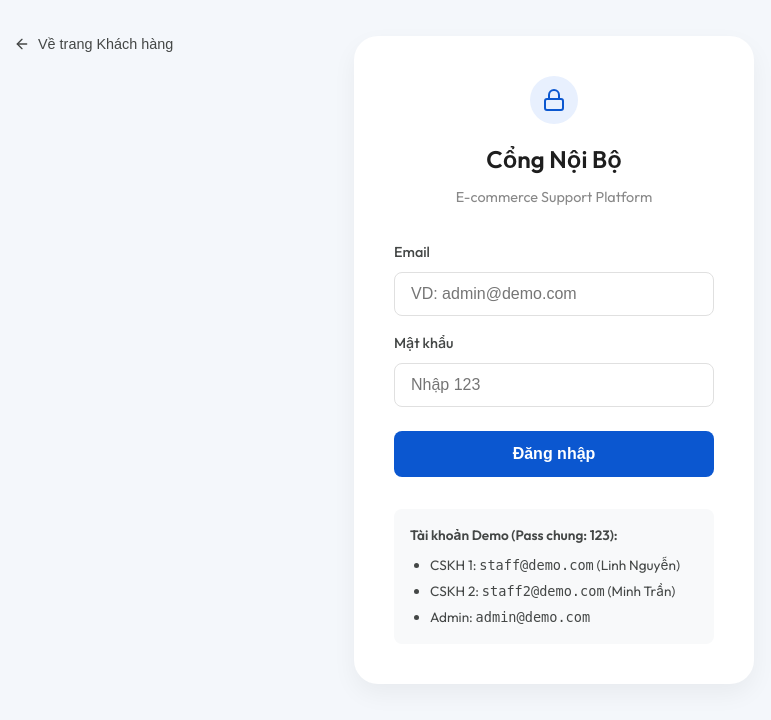
Scenario: Login › hiện thông báo lỗi khi sai mật khẩu
The width and height of the screenshot is (771, 720).
Type "admin@demo.com" into the field with placeholder "VD: admin@demo.com" at (554, 294), box left=394, top=272, right=714, bottom=316
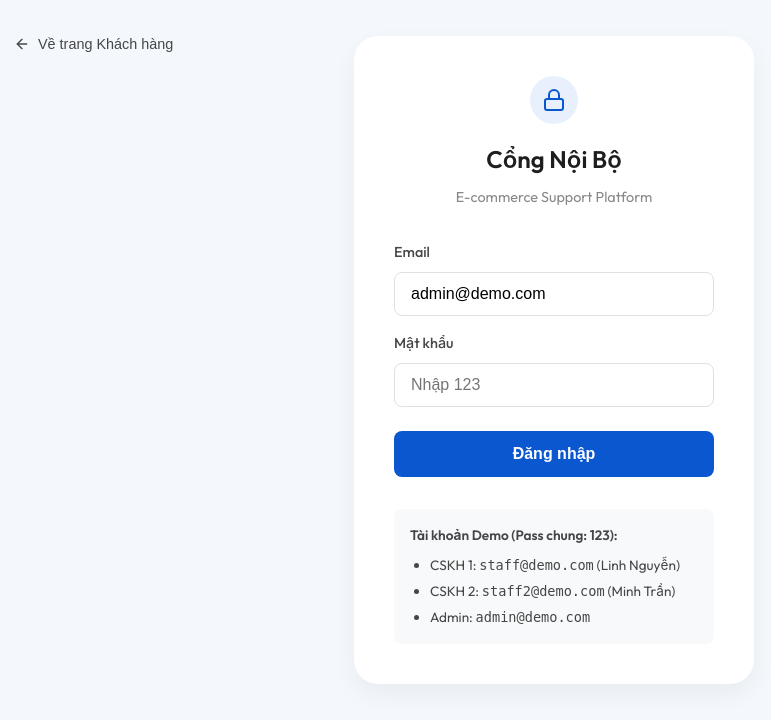
Type "sai-mat-khau" into the password field with placeholder "Nhập 123" at (554, 385), box left=394, top=363, right=714, bottom=407
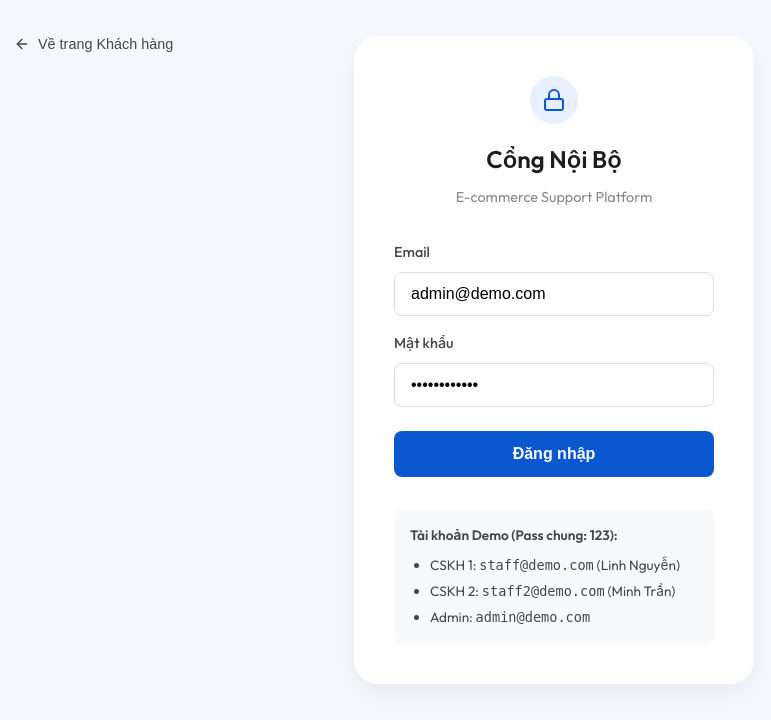
Click the button "Đăng nhập" at (554, 454), box left=394, top=431, right=714, bottom=477
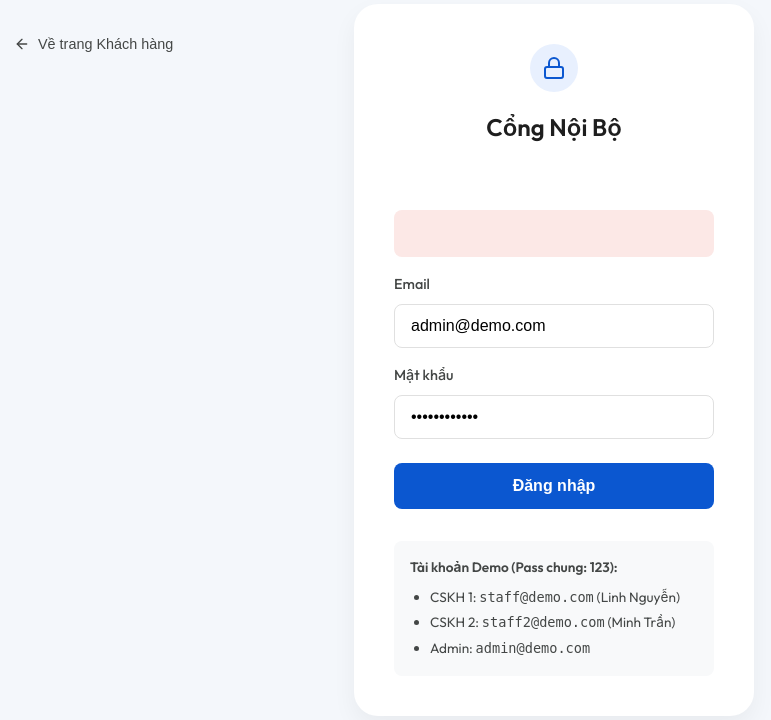
Expected: the text "Email hoặc mật khẩu không đúng" is shown, left=394, top=210, right=714, bottom=257
